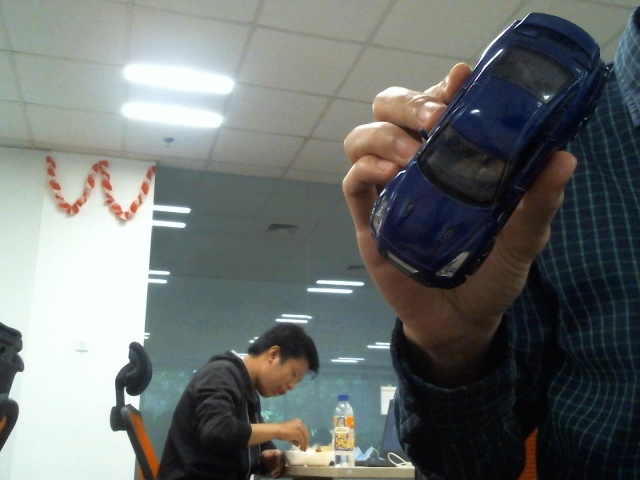car: (369, 11, 604, 290)
